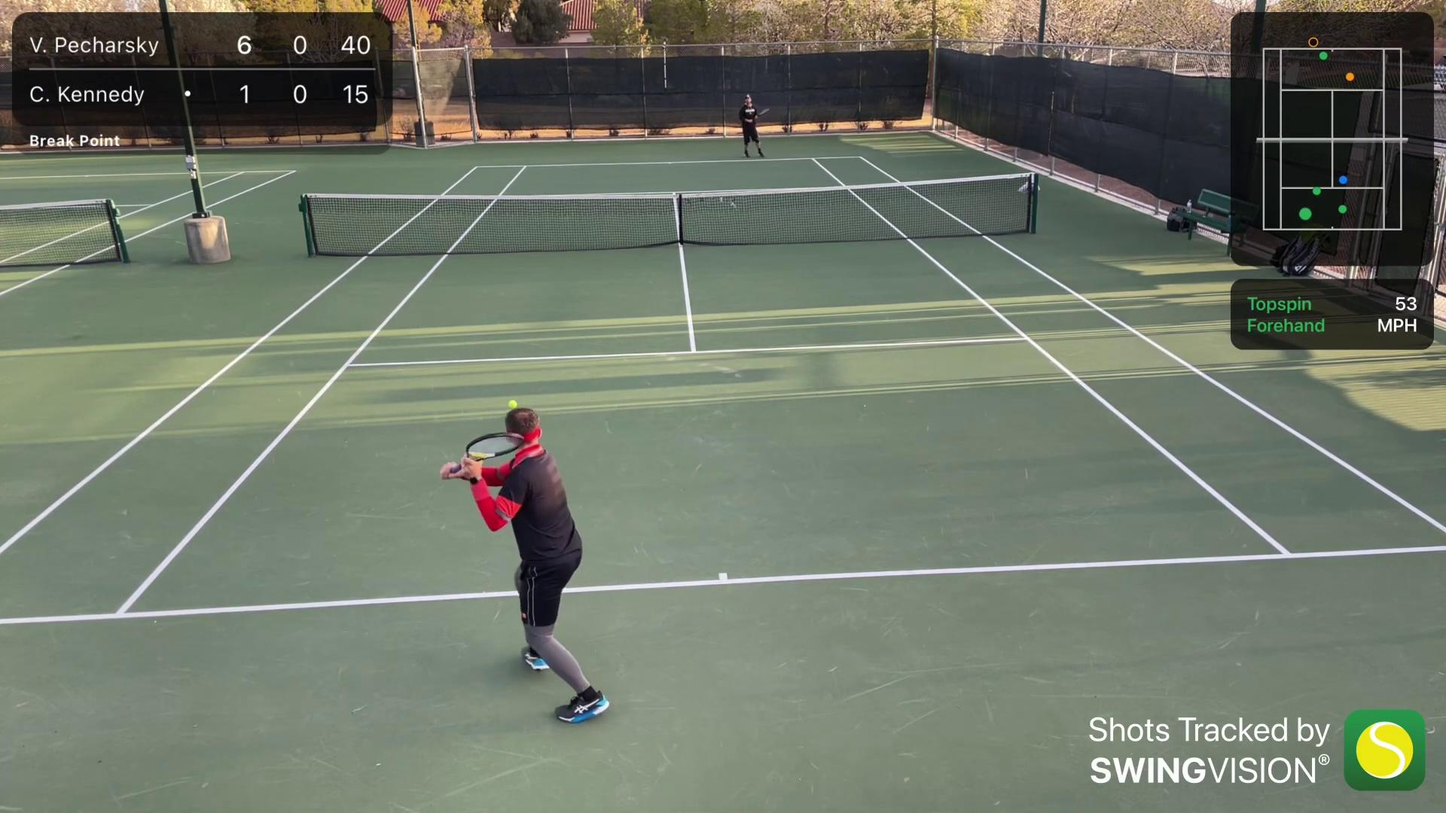ball: (505, 397, 521, 408)
